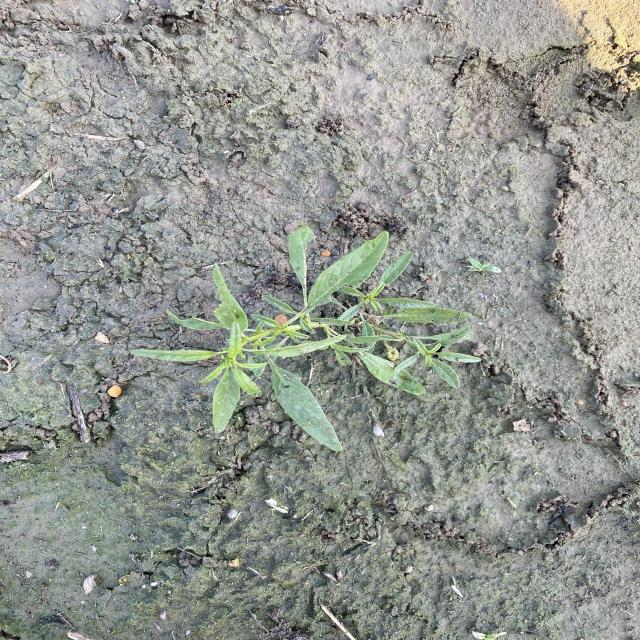Waterhemp: (127, 224, 484, 454)
